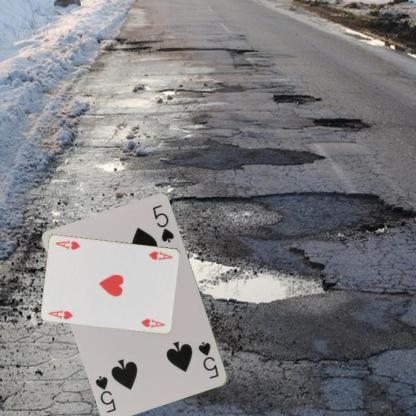5s: (196, 339, 221, 381)
Ah: (147, 248, 174, 262), (46, 307, 74, 320)
